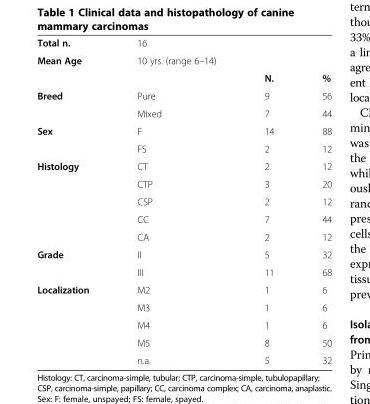table: (36, 36, 331, 365)
table column: (112, 36, 239, 365), (36, 36, 112, 365), (239, 36, 297, 365), (297, 36, 331, 365)
table row: (36, 68, 331, 86), (36, 86, 331, 104), (36, 121, 331, 139), (36, 139, 331, 157), (36, 174, 331, 192), (36, 192, 331, 210), (36, 227, 331, 245), (36, 245, 331, 263), (36, 280, 331, 298), (36, 315, 331, 333), (36, 333, 331, 351), (36, 51, 331, 68), (36, 104, 331, 121), (36, 157, 331, 174), (36, 210, 331, 227), (36, 263, 331, 280), (36, 298, 331, 315), (36, 36, 331, 51), (36, 351, 331, 365)
table spanning cell: (36, 157, 112, 245), (36, 280, 112, 365), (36, 121, 112, 157), (36, 86, 112, 121), (36, 245, 112, 280)
